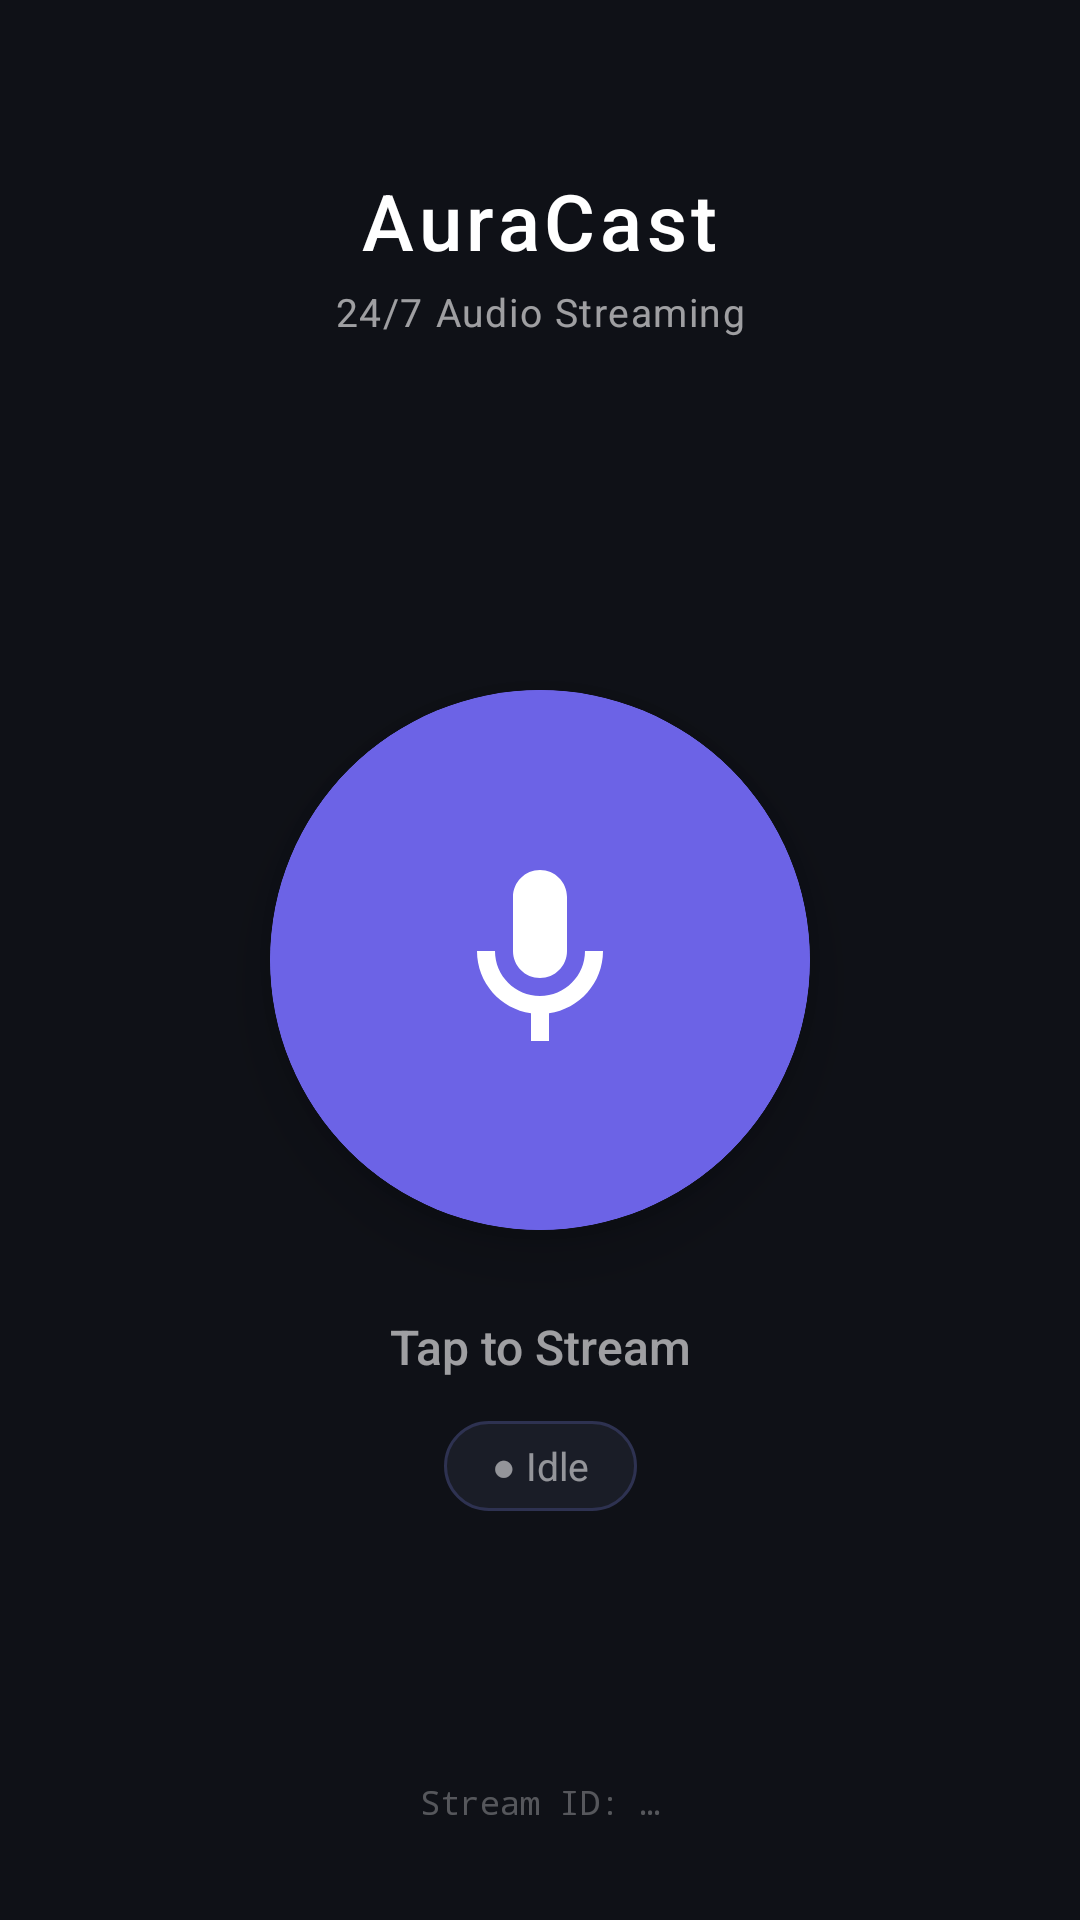

Icon bounding boxes for this 1080px x 1920px phone screenshot, format (x1, y1, x2, y2):
Microphone: (477, 870, 603, 1041)
